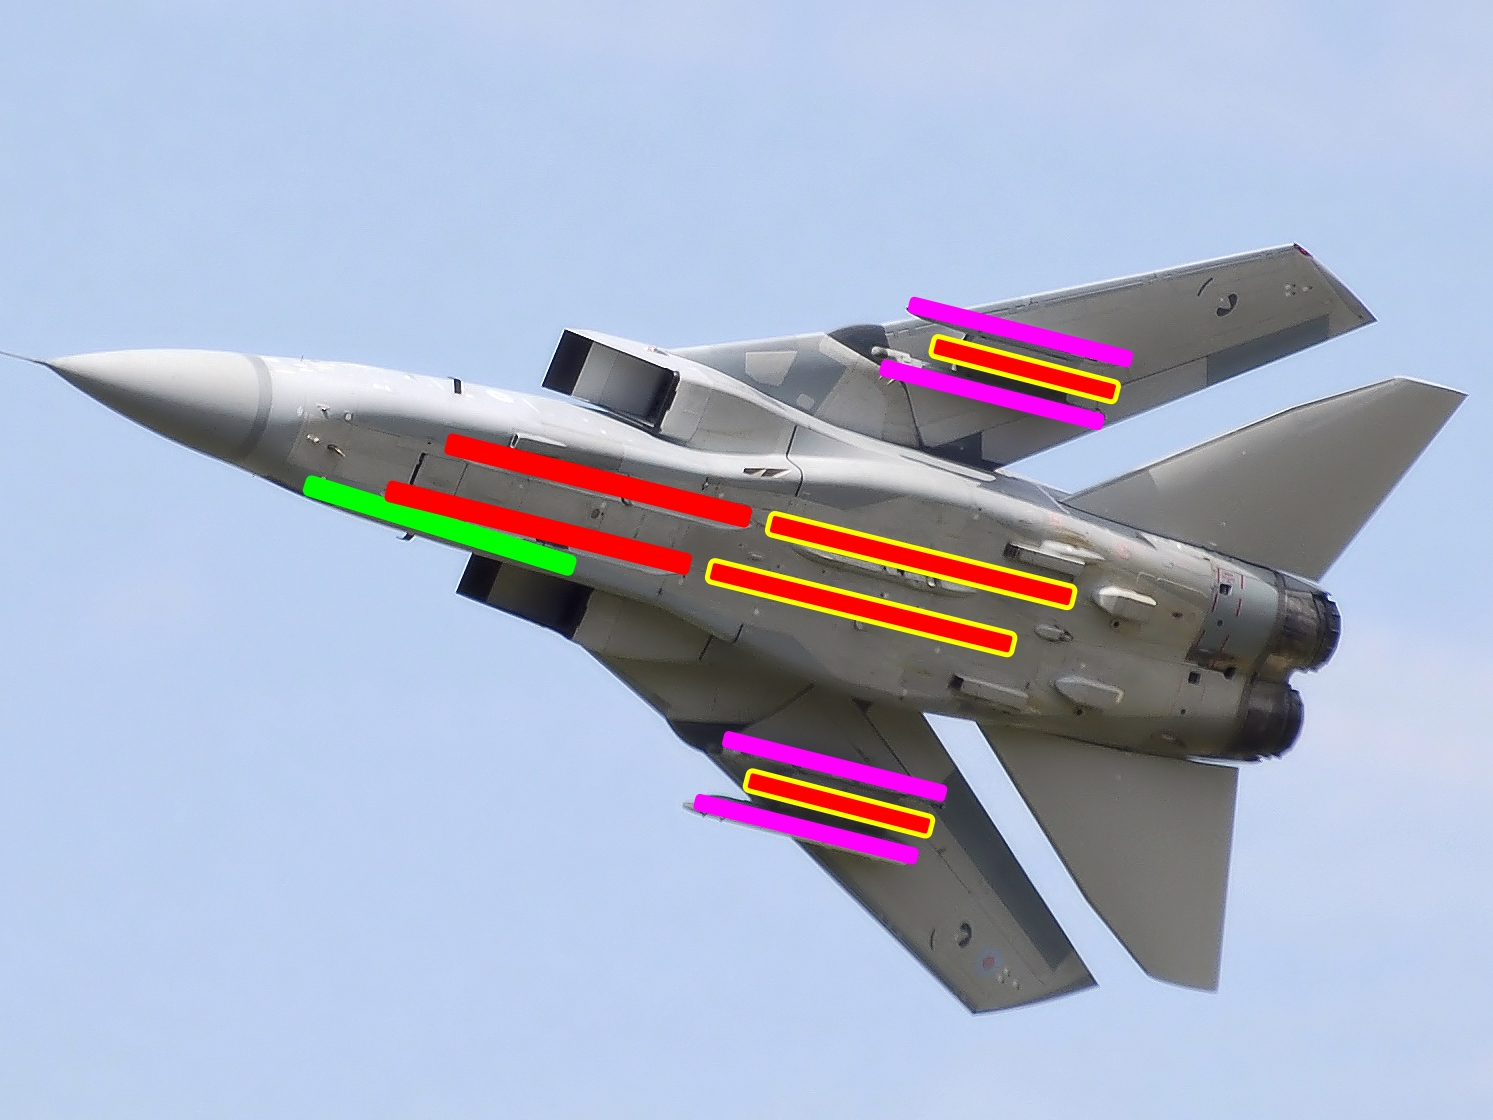Tornado: (1, 241, 1469, 1016)
